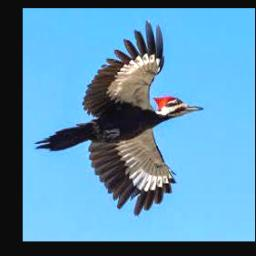Woodpecker: (34, 18, 204, 216)
